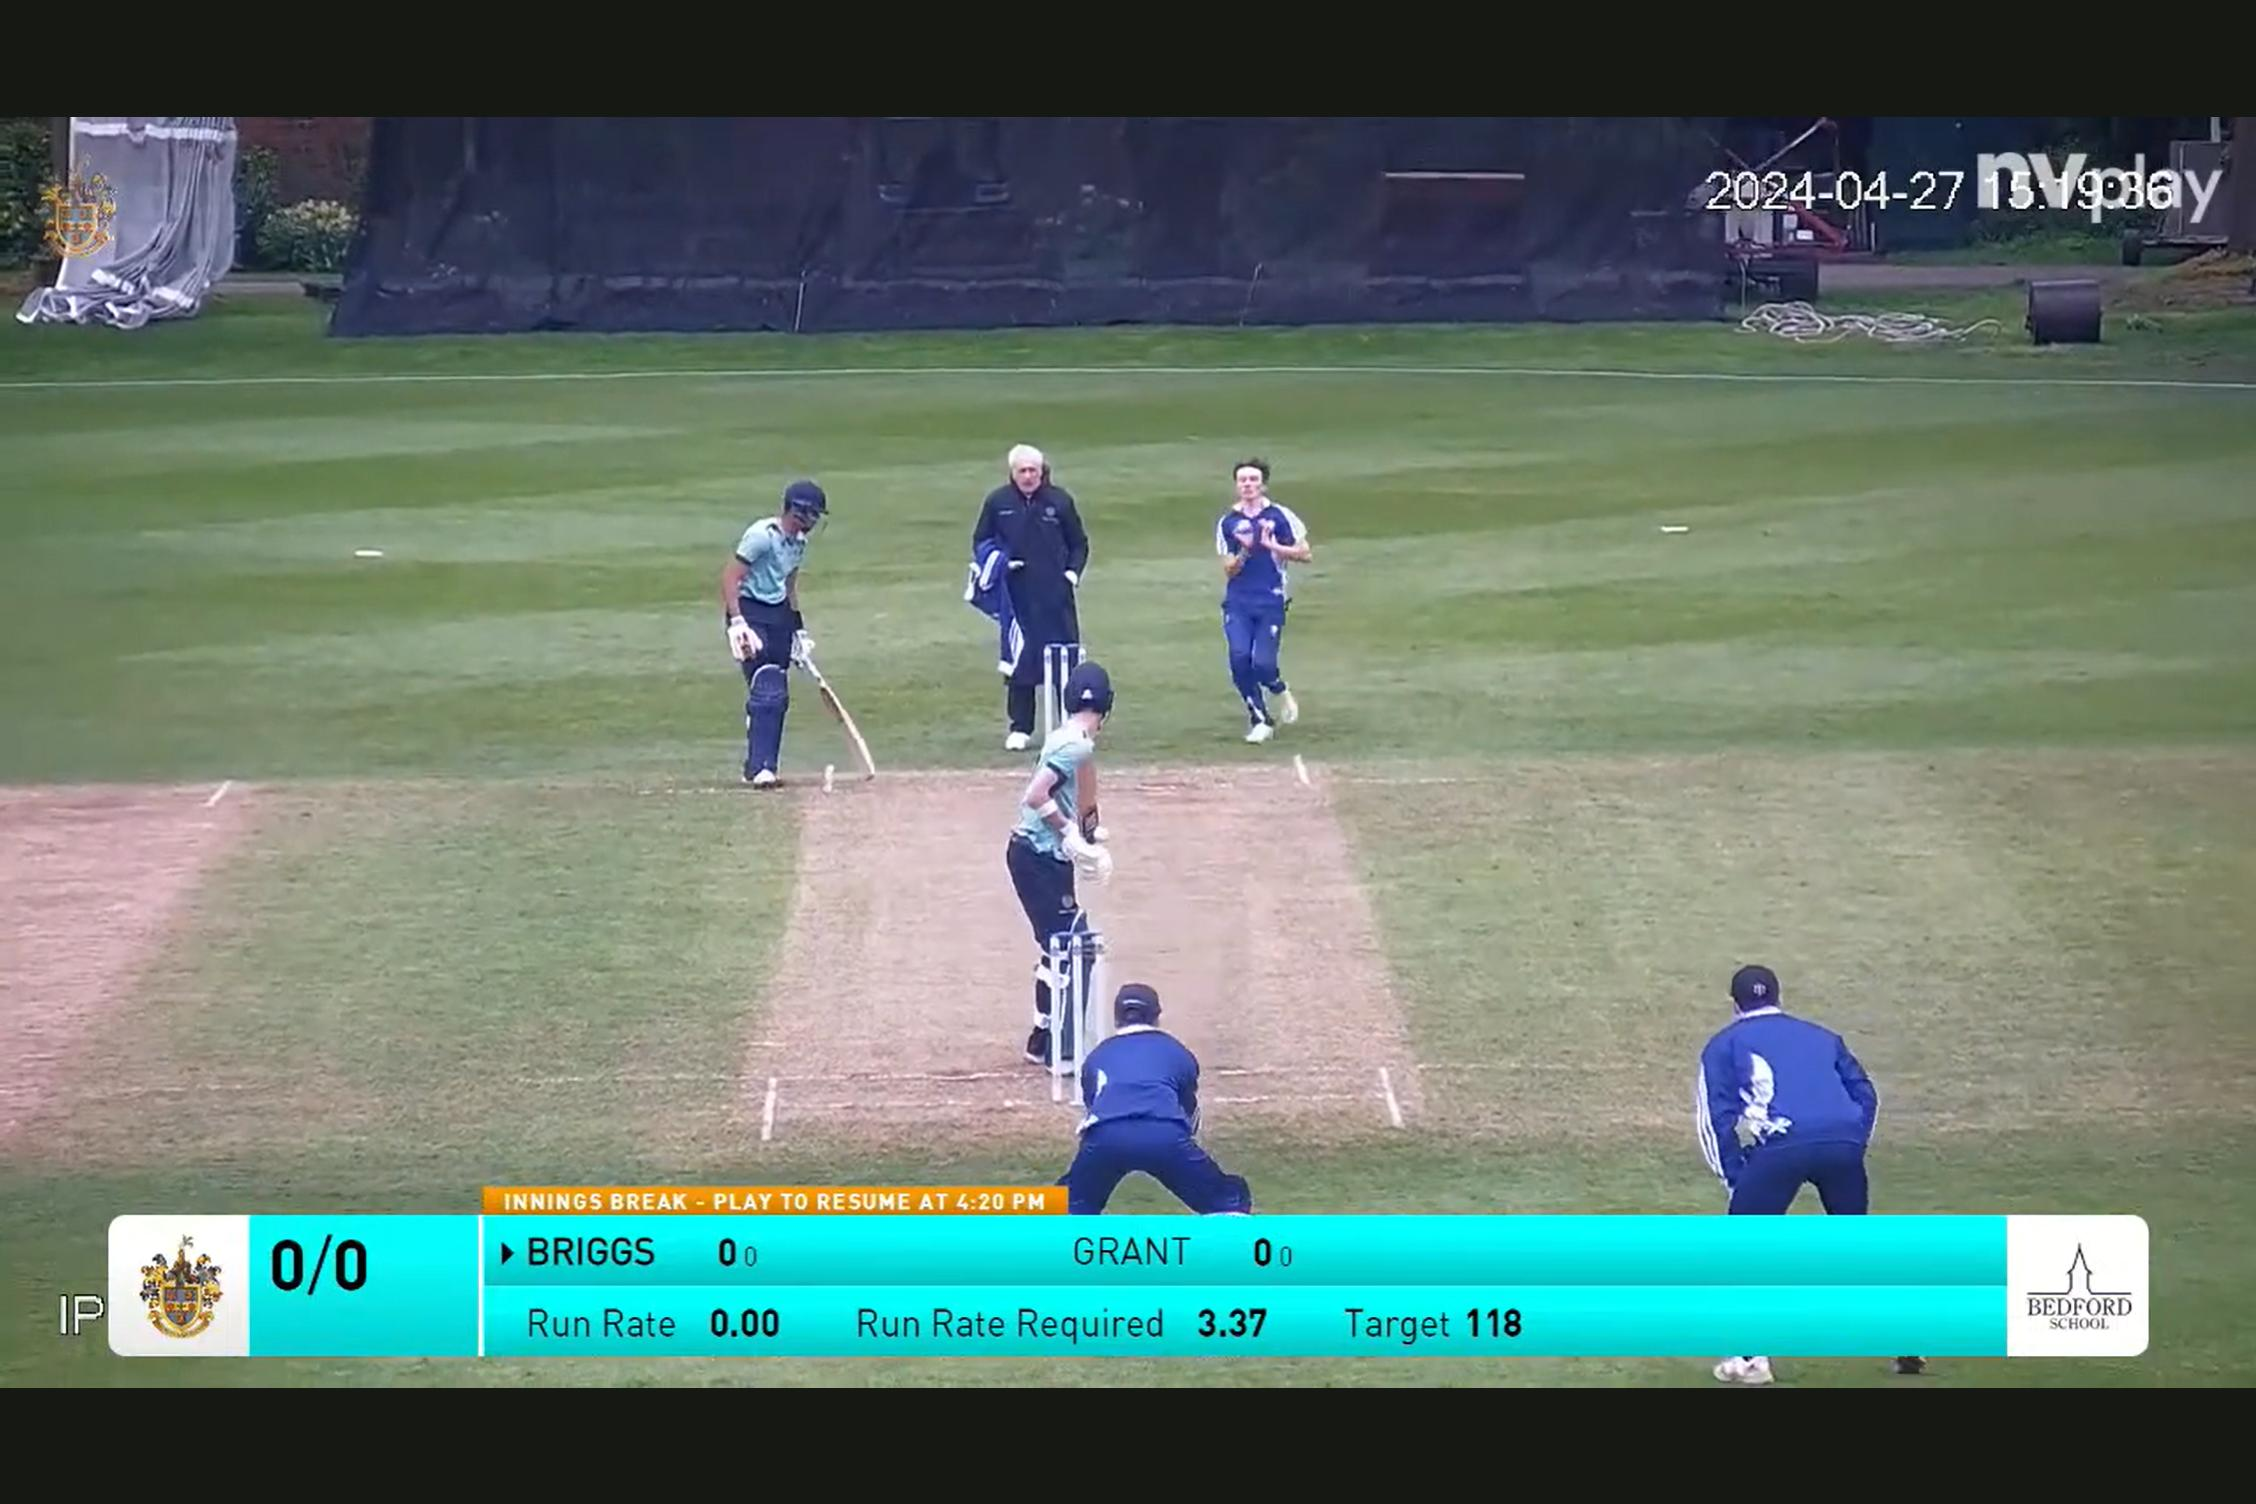batsman: (997, 681, 1143, 969)
bowler running in: (1190, 438, 1321, 750)
non striker: (707, 453, 895, 796)
umpire: (965, 436, 1110, 668)
wicket keeper: (1069, 965, 1215, 1209)
